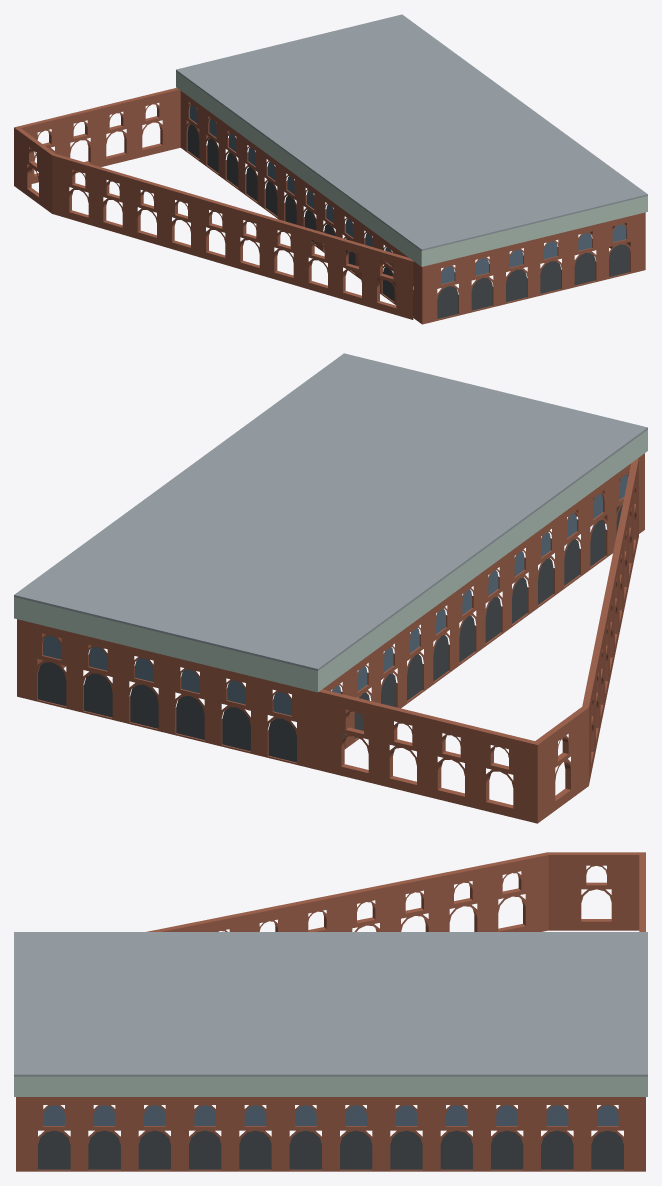
File: nyc-st-anns-warehouse.glb
The picture shows the model from 3 angles, top to bottom: view 1: azimuth 30°, elevation 25°; view 2: azimuth 150°, elevation 25°; view 3: azimuth 270°, elevation 25°; orthographic projection. The views are drawn at different scales.
Parts seen in each view (by area): view 1: St. Ann's Warehouse; view 2: St. Ann's Warehouse; view 3: St. Ann's Warehouse.
Boxes of the visible parts, x1=… form: St. Ann's Warehouse: x1=14, y1=14, x2=647, y2=324; St. Ann's Warehouse: x1=14, y1=353, x2=647, y2=823; St. Ann's Warehouse: x1=14, y1=852, x2=647, y2=1171.
Size of the model in its own units: 53.55 by 10 by 58.6.
